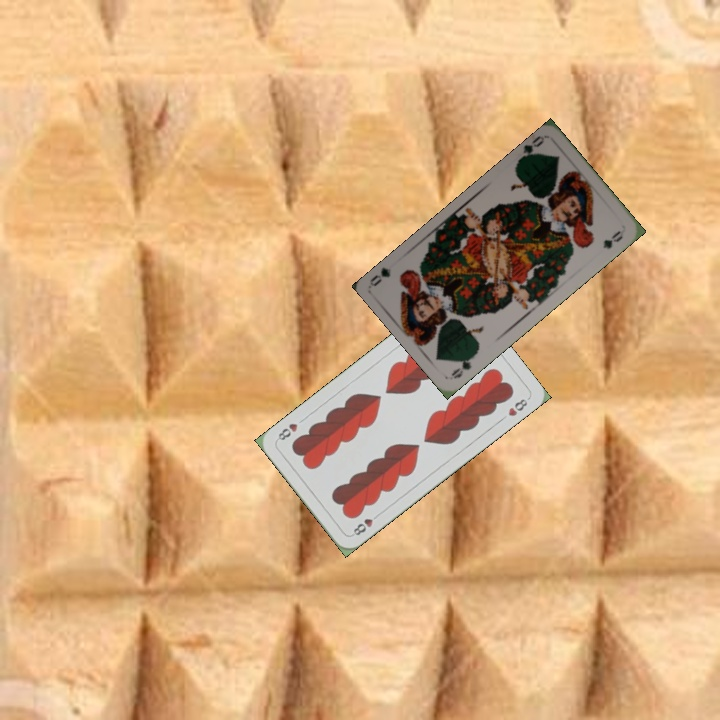GO: (514, 132, 547, 165), (447, 349, 480, 381)
H8: (348, 509, 382, 538)
